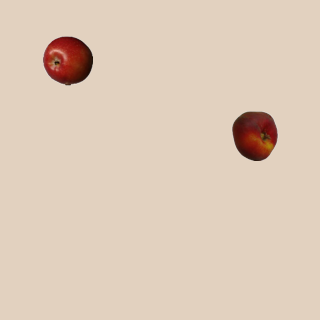Apple Braeburn: (42, 35, 92, 85)
Nectarine Flat: (229, 110, 279, 160)
